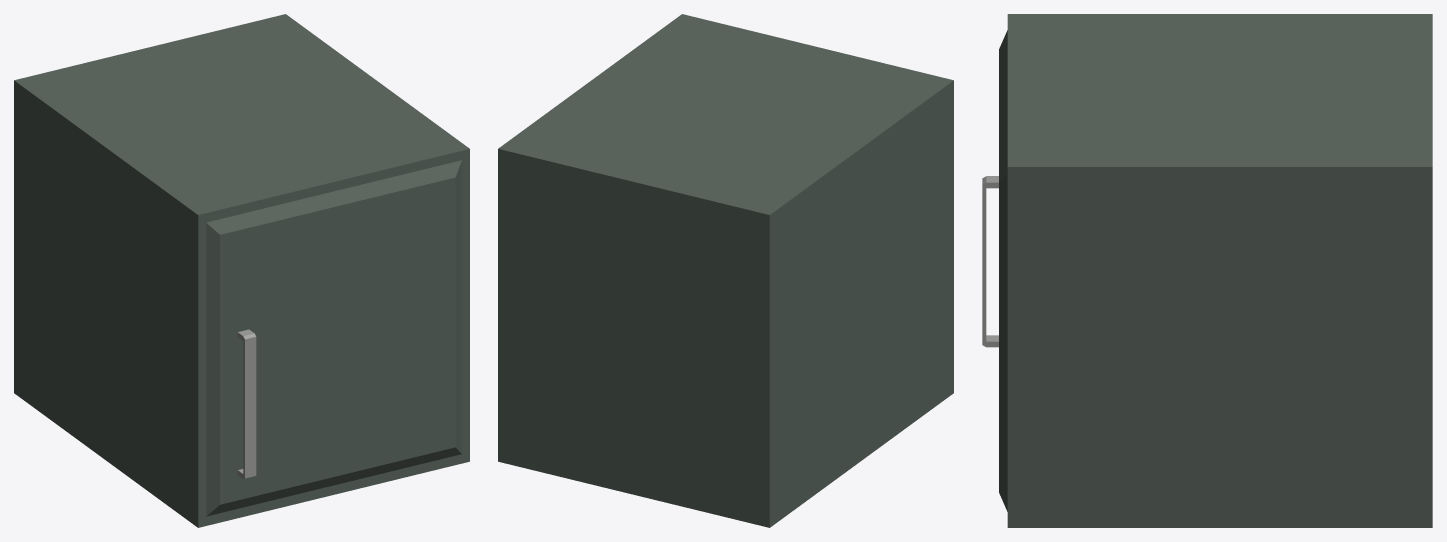
The model's file is Kitchen_CabinetSmall.glb.
3 views of the same model, side by side, from view 1: azimuth 30°, elevation 25°; view 2: azimuth 150°, elevation 25°; view 3: azimuth 270°, elevation 25° (orthographic). The views are drawn at different scales.
Visible parts, largest first — view 1: Kitchen_CabinetSmall; view 2: Kitchen_CabinetSmall; view 3: Kitchen_CabinetSmall.
Part boxes in pixels (<box>): Kitchen_CabinetSmall: <box>14,14,469,527</box>; Kitchen_CabinetSmall: <box>498,14,953,527</box>; Kitchen_CabinetSmall: <box>982,14,1432,527</box>.
Bounding box in the file's own units: 0.4211 × 0.4633 × 0.5239.
Materials: 2 (2 with a texture image).
